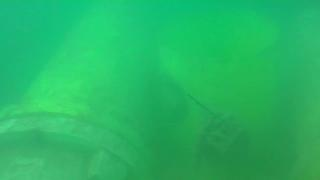pipe: (1, 7, 161, 180), (160, 7, 283, 134)
